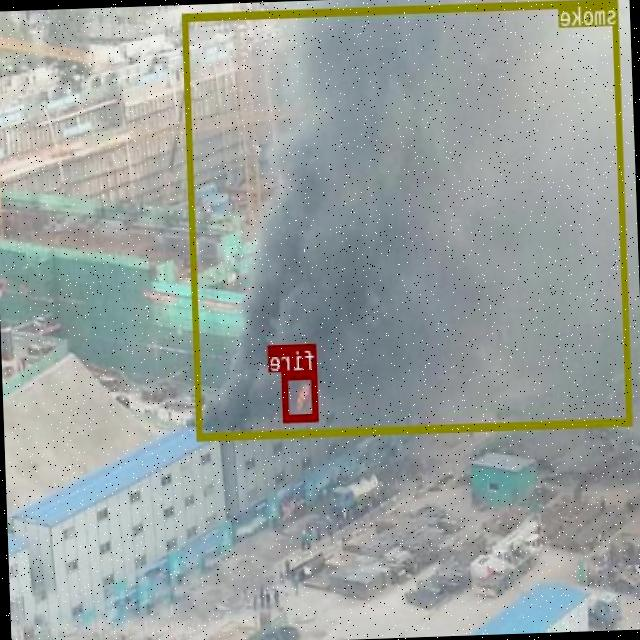fire: (283, 368, 319, 421)
smoke: (182, 0, 633, 439)
